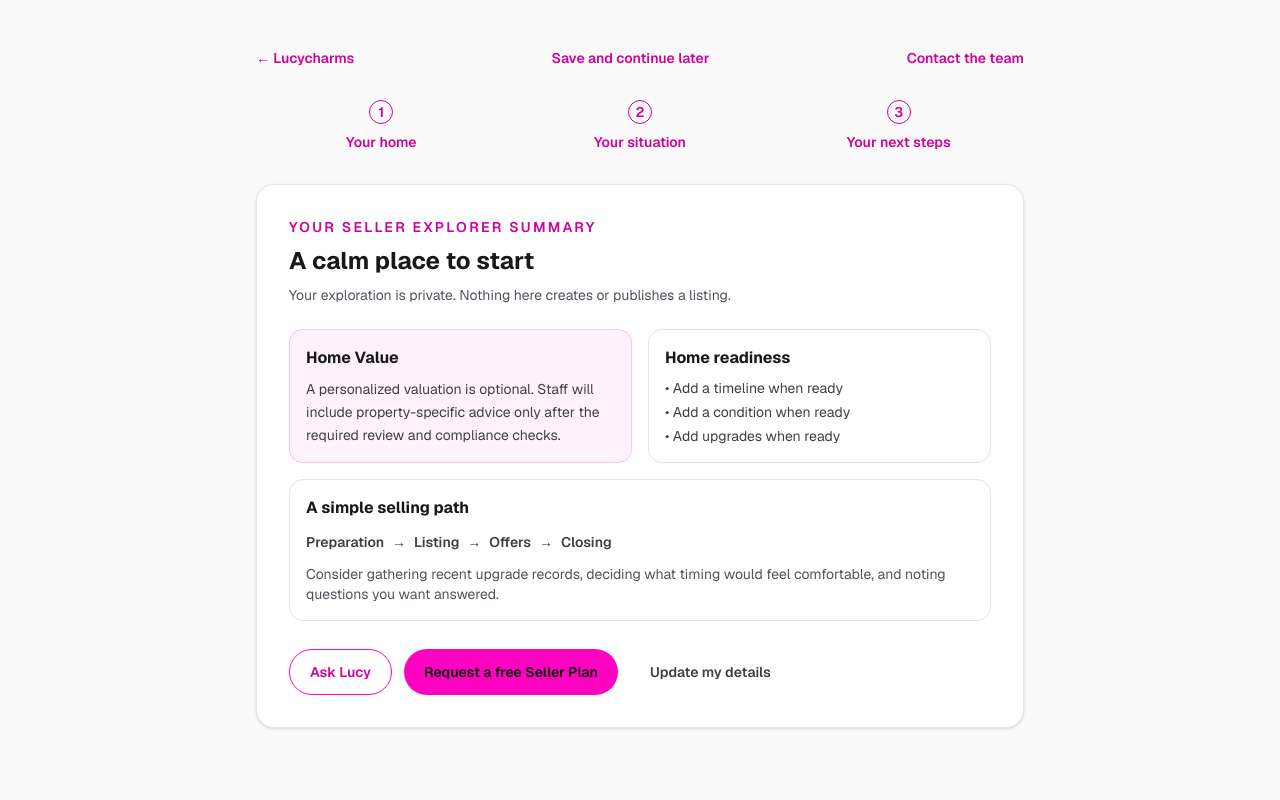
saving anonymously offers a mobile sheet, and dismissal keeps device-bound progress
Expected: the text "Your Seller Explorer summary" is shown, left=289, top=218, right=597, bottom=236
Click the button "Save and continue later".
click(630, 58)  # box left=552, top=48, right=709, bottom=68
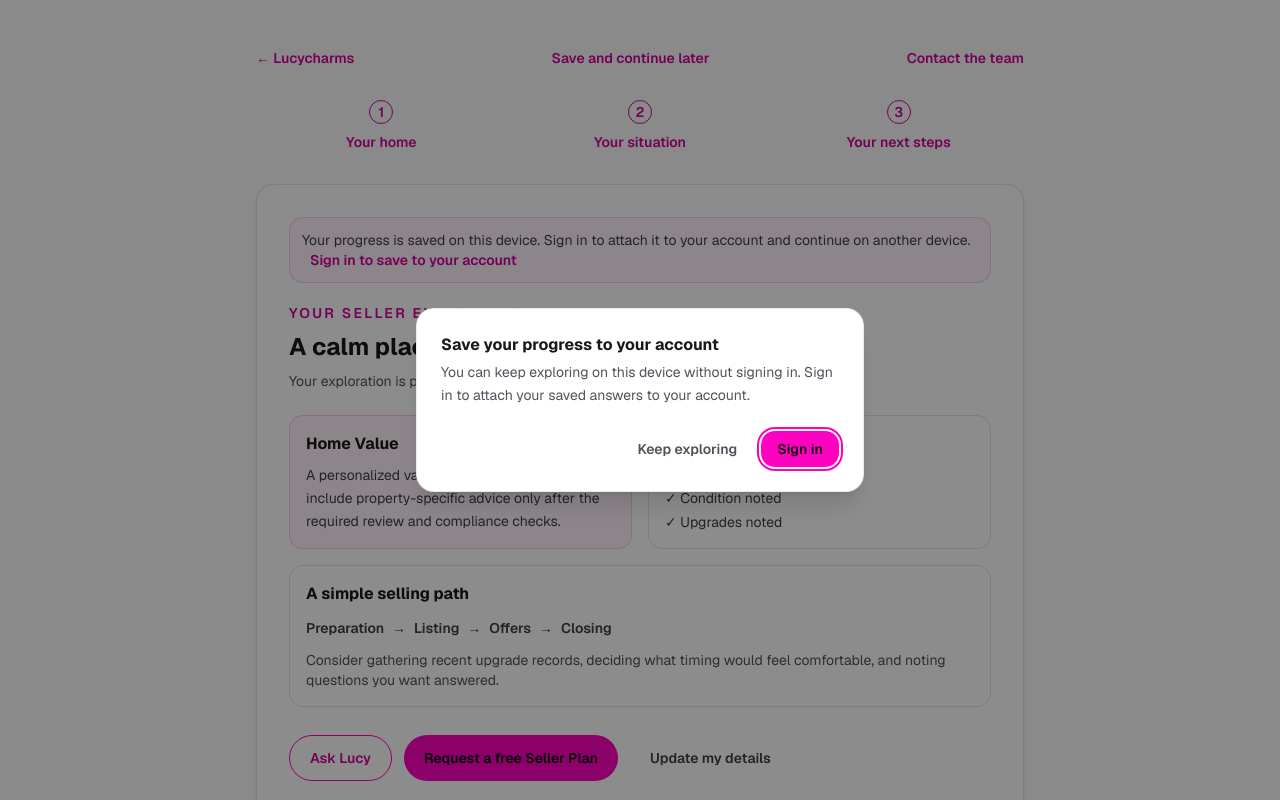
Click the button "Keep exploring".
click(687, 449)  # box left=622, top=431, right=753, bottom=467
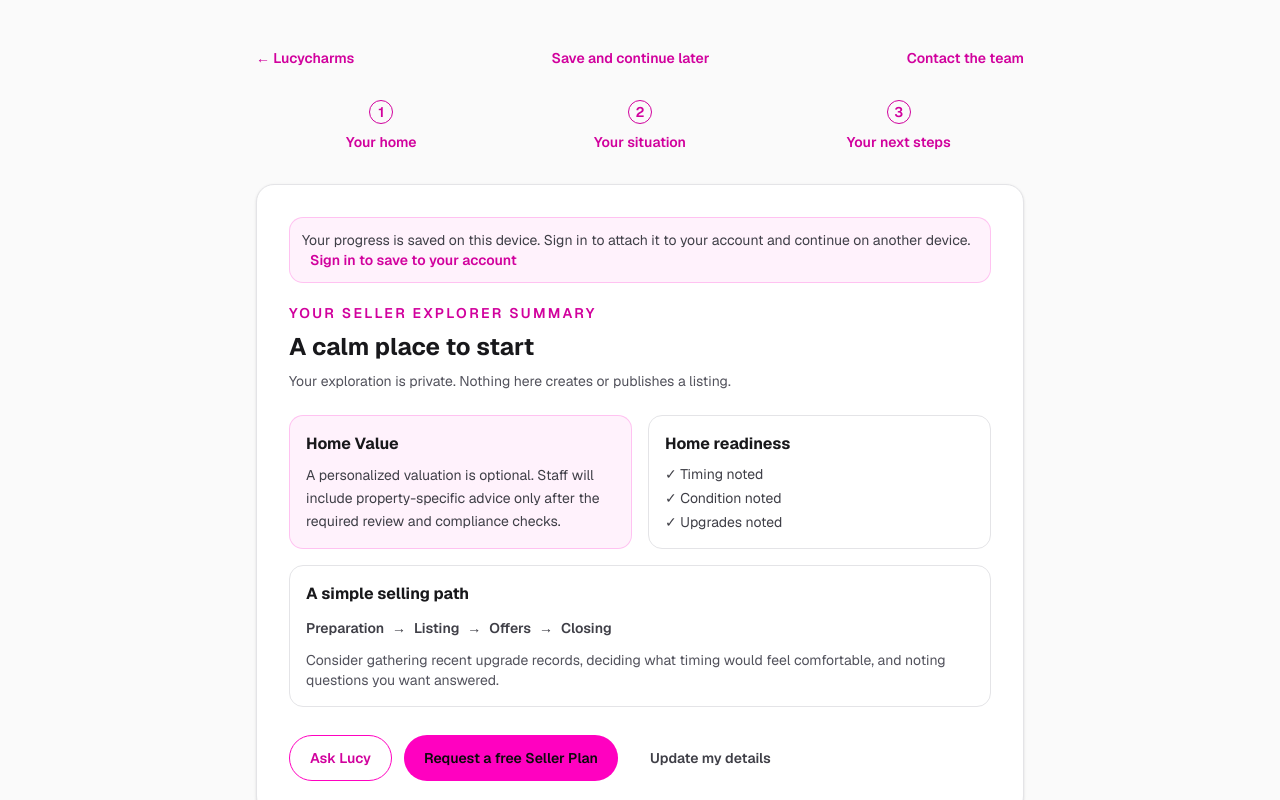
Expected: the dialog is gone
